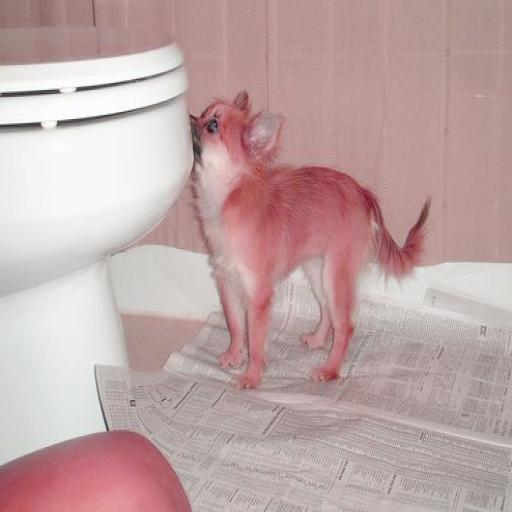dog_face: (186, 93, 287, 188)
